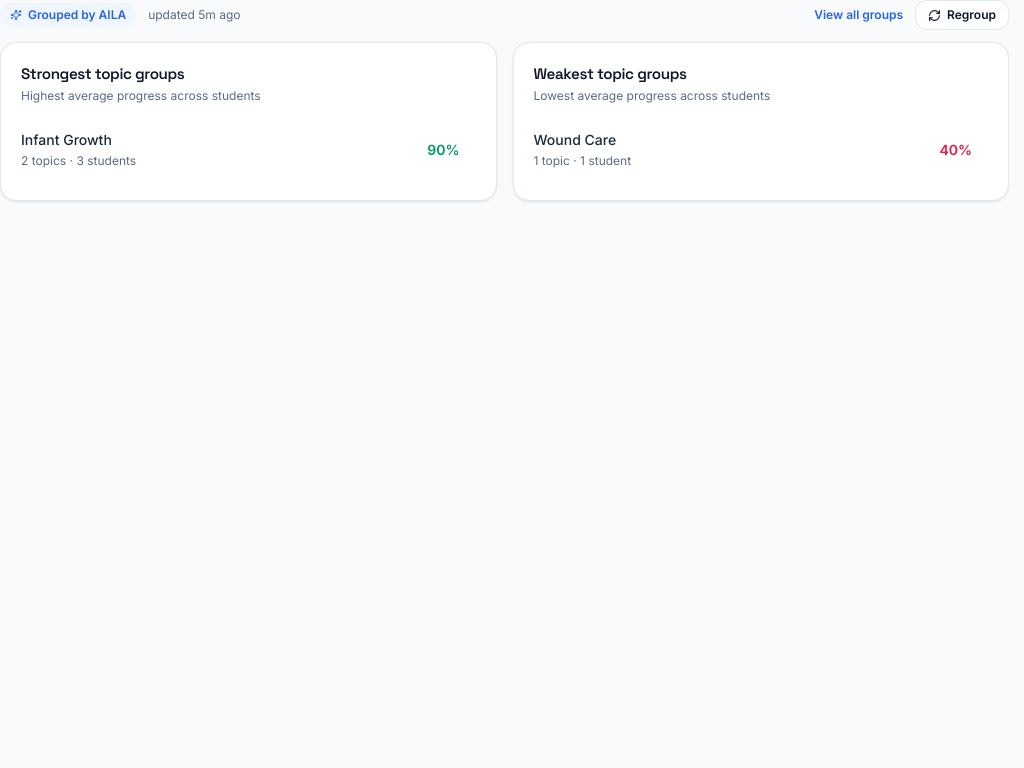
Scenario: TopicGroupsSection › clicking a group inside "View all groups" opens that group's detail dialog
Expected: the text "Infant Growth" is shown, 21,131 -> 112,148
What coordinates should you click on to do the following:
click the button "View all groups"
I would click on:
 (859, 15)
Its box is 814,7 -> 903,23.
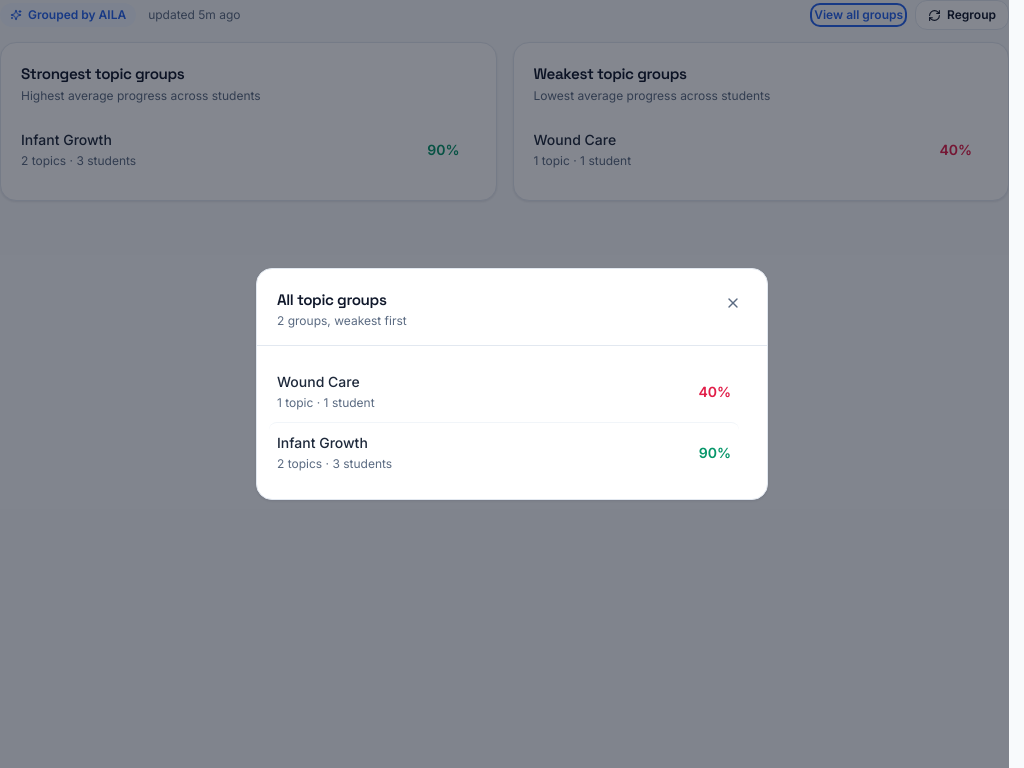
What coordinates should you click on to do the following:
click the text "Wound Care"
I would click on:
 (318, 382)
Its box is 277,373 -> 360,390.
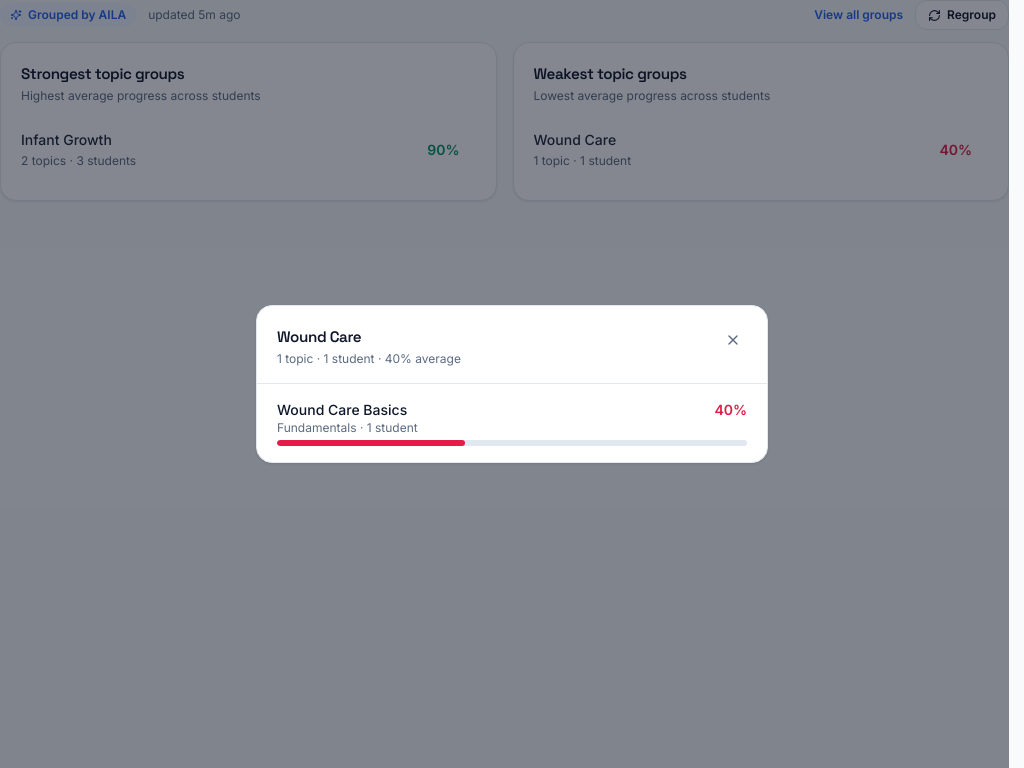
Expected: the text "Wound Care Basics" is shown, 277,400 -> 418,420
